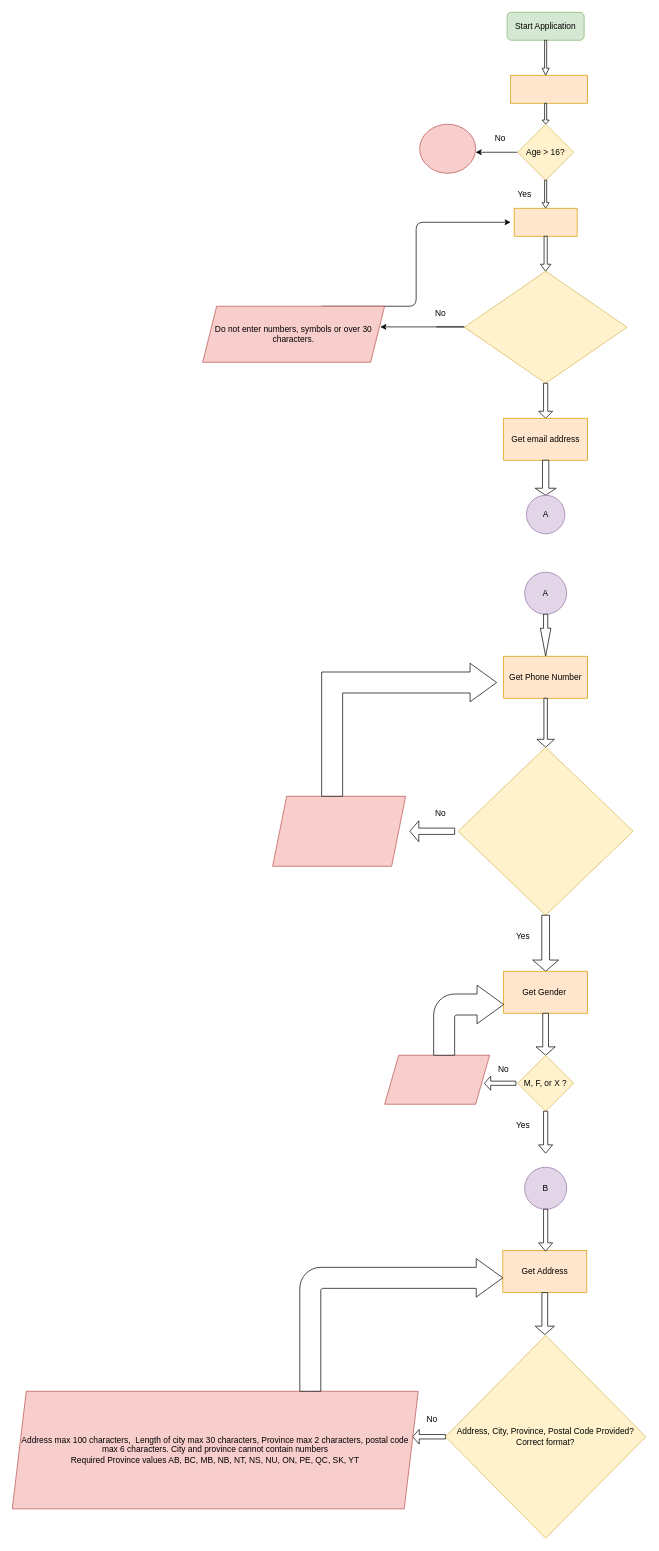
This 659x1551 diagram has some shape labels left out. Here are the shapes that lost their labels. From the top down, the centre of each, then its label:
pixel 549 89: Load app & request age (birth month & year)
pixel 447 148: End Process
pixel 545 222: Get First & Last Name
pixel 545 327: Valid Name? Enter max of 30 upper & lower case letters.
pixel 339 831: Please Enter A Valid Phone Number
pixel 545 831: Required 10 digit format (###)-###-##### provided?
pixel 437 1079: Please enter a valid gender
